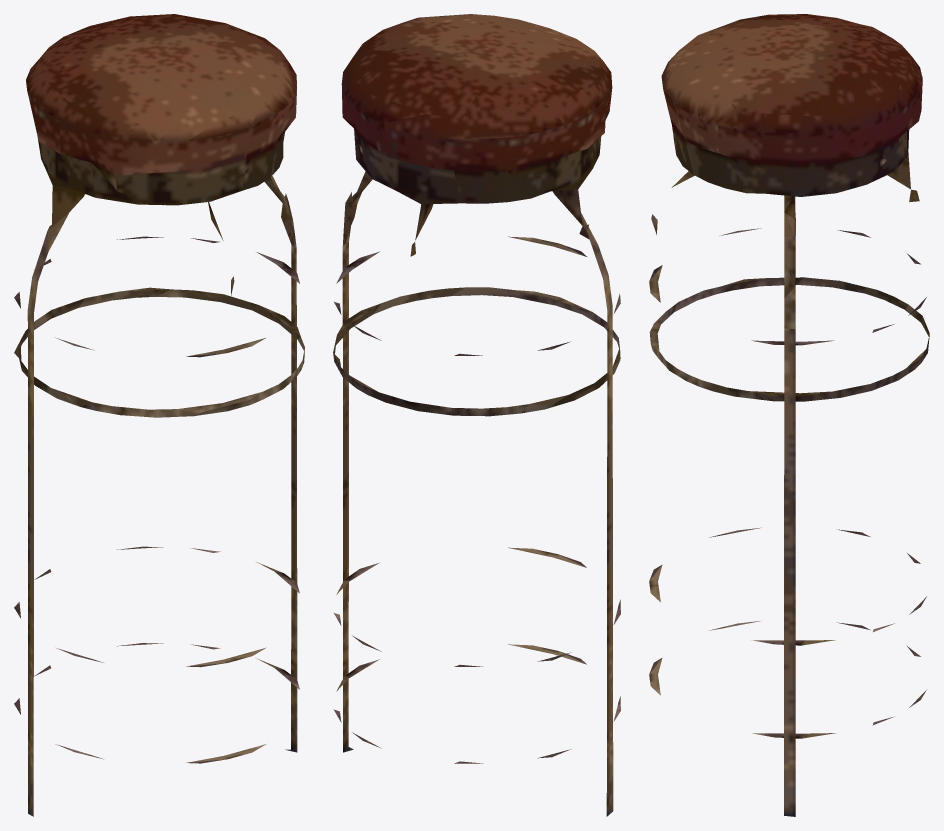
Rendered from metal_stool_01.glb.
3 views of the same model, side by side, from view 1: azimuth 30°, elevation 25°; view 2: azimuth 150°, elevation 25°; view 3: azimuth 270°, elevation 25° (orthographic). The views are drawn at different scales.
Parts seen in each view (by area): view 1: mesh; view 2: mesh; view 3: mesh.
Boxes of the visible parts, x1,y1,x2,y2 form: mesh: (14,14,304,816); mesh: (333,14,620,816); mesh: (649,14,929,816).
Size of the model in its own units: 0.3324 by 0.8828 by 0.3171.
Materials: 1 (1 with a texture image).
